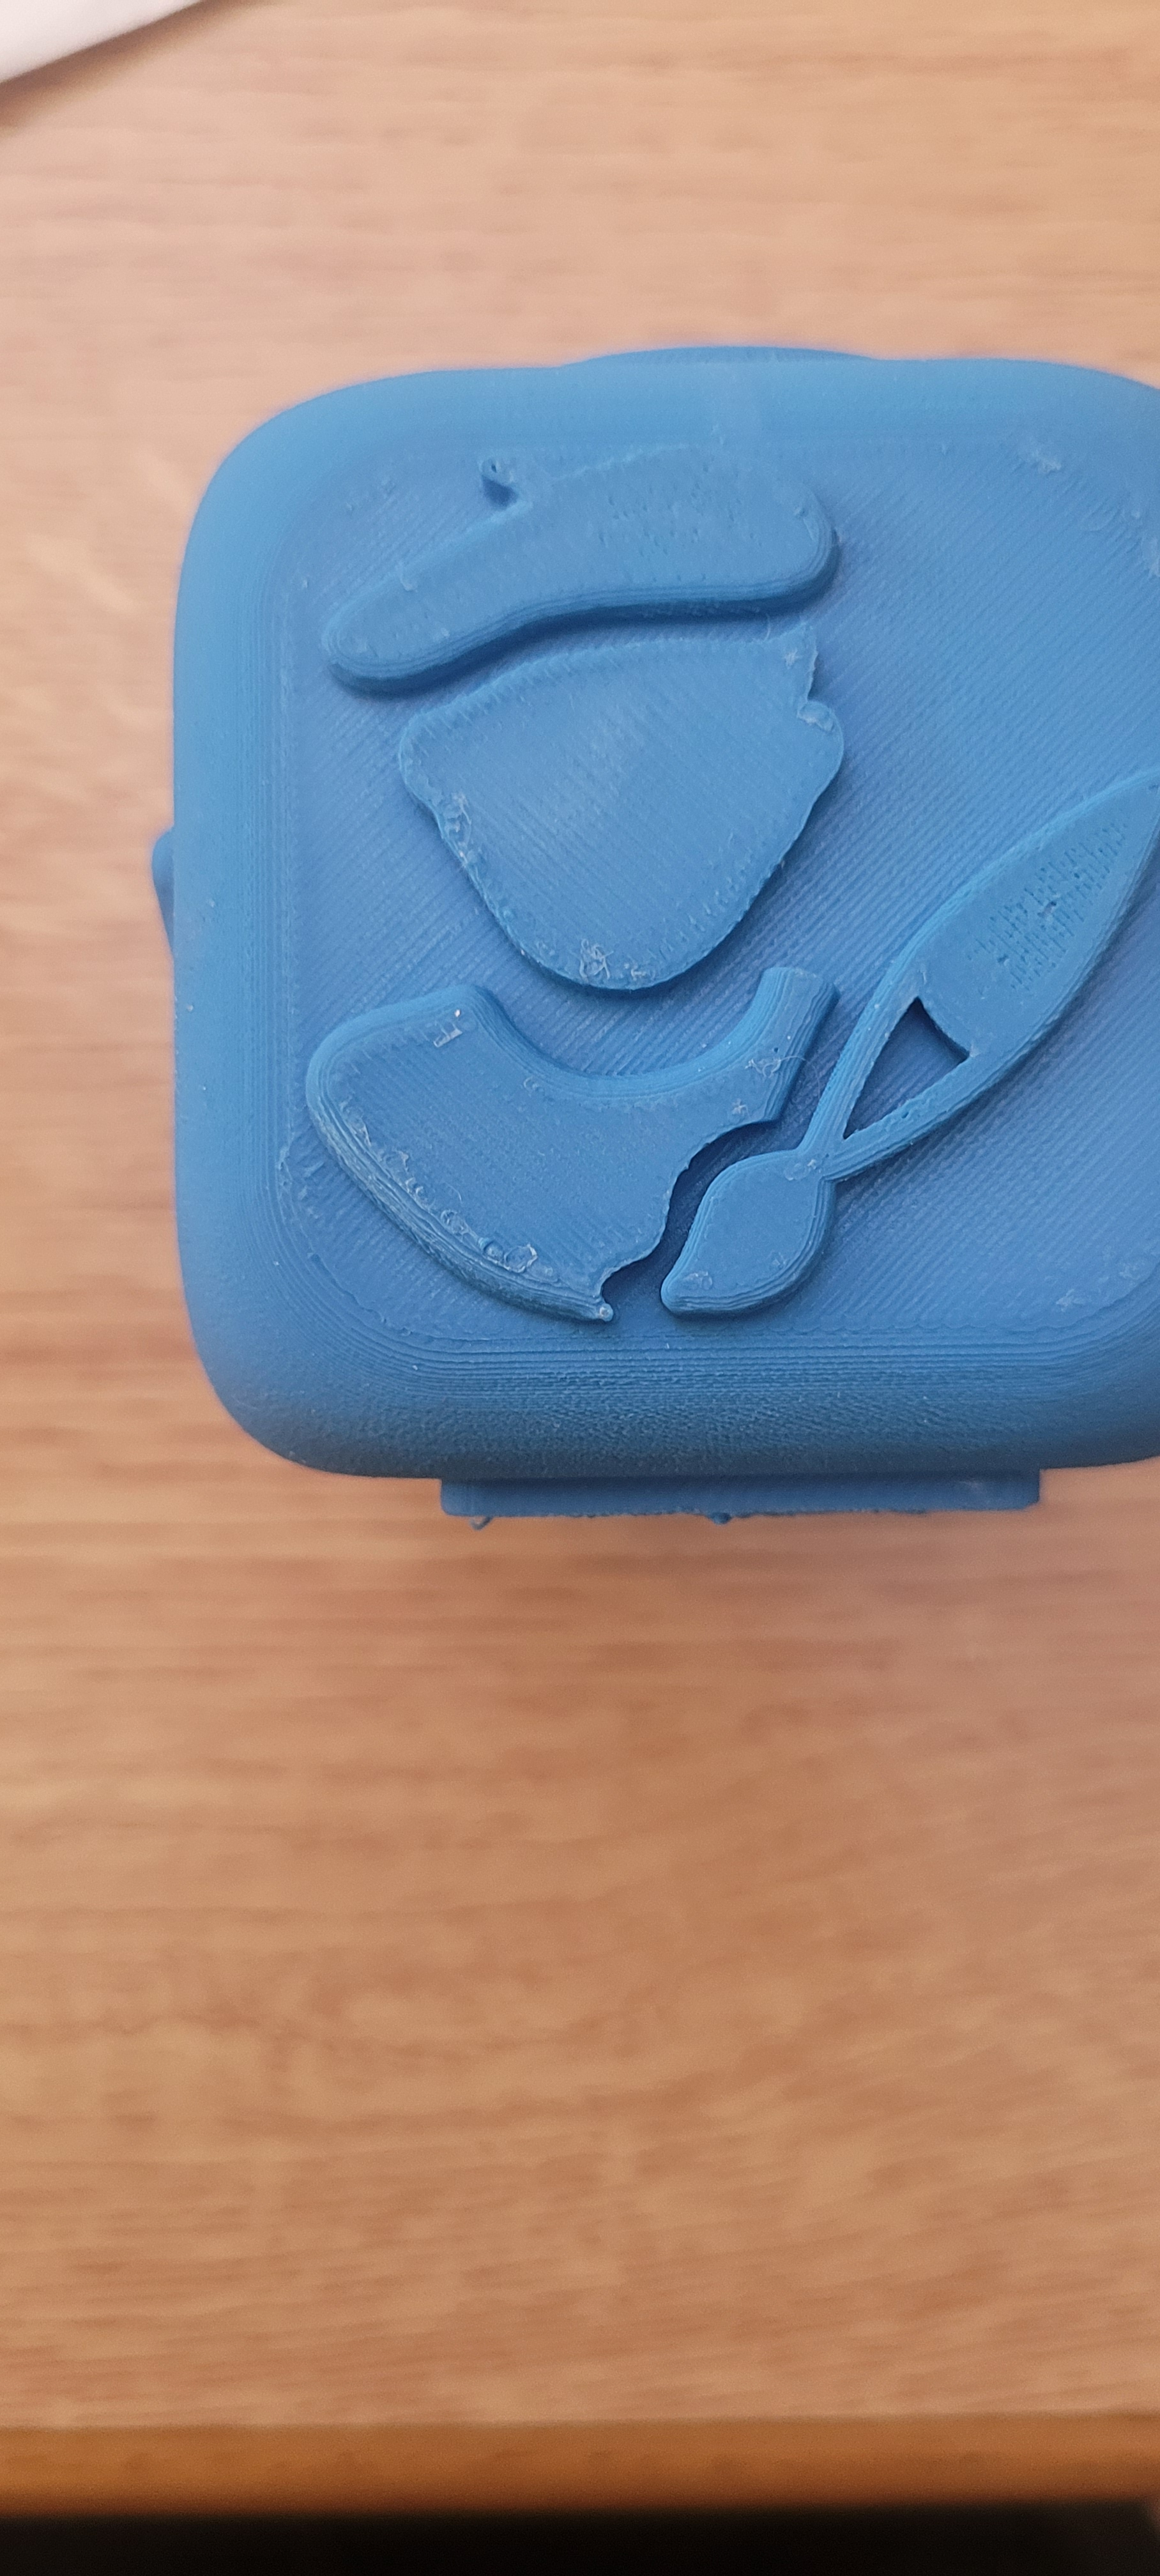Artist_Info: (151, 342, 1160, 1467)
